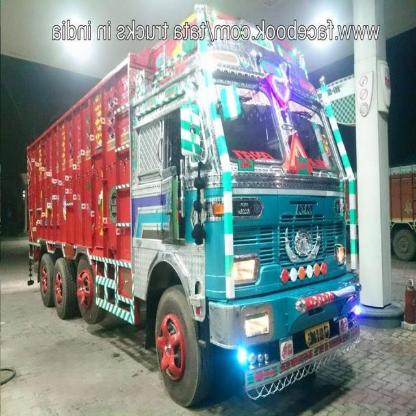truck: (13, 39, 359, 397)
